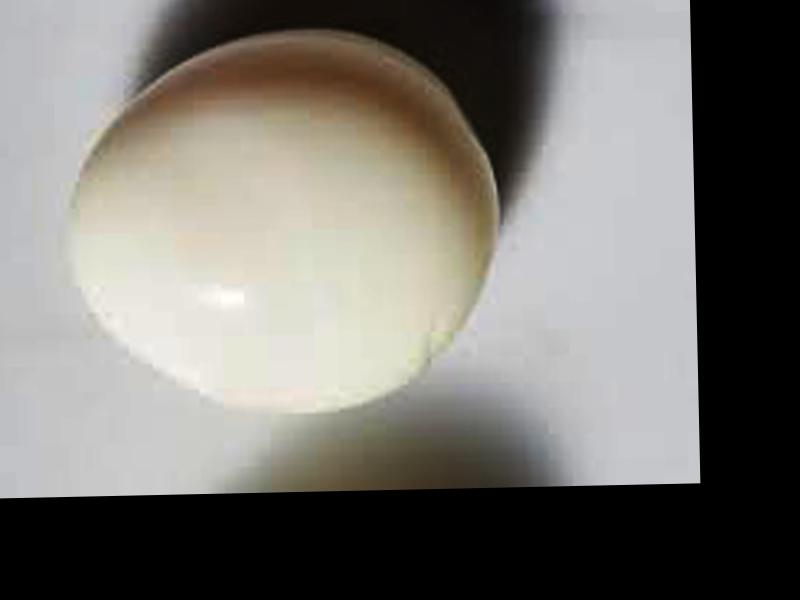Eggs: (67, 24, 505, 417)
